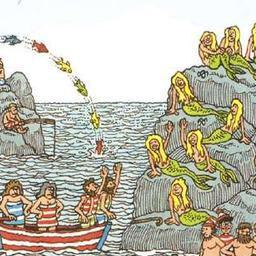waldo: (211, 204, 236, 244)
